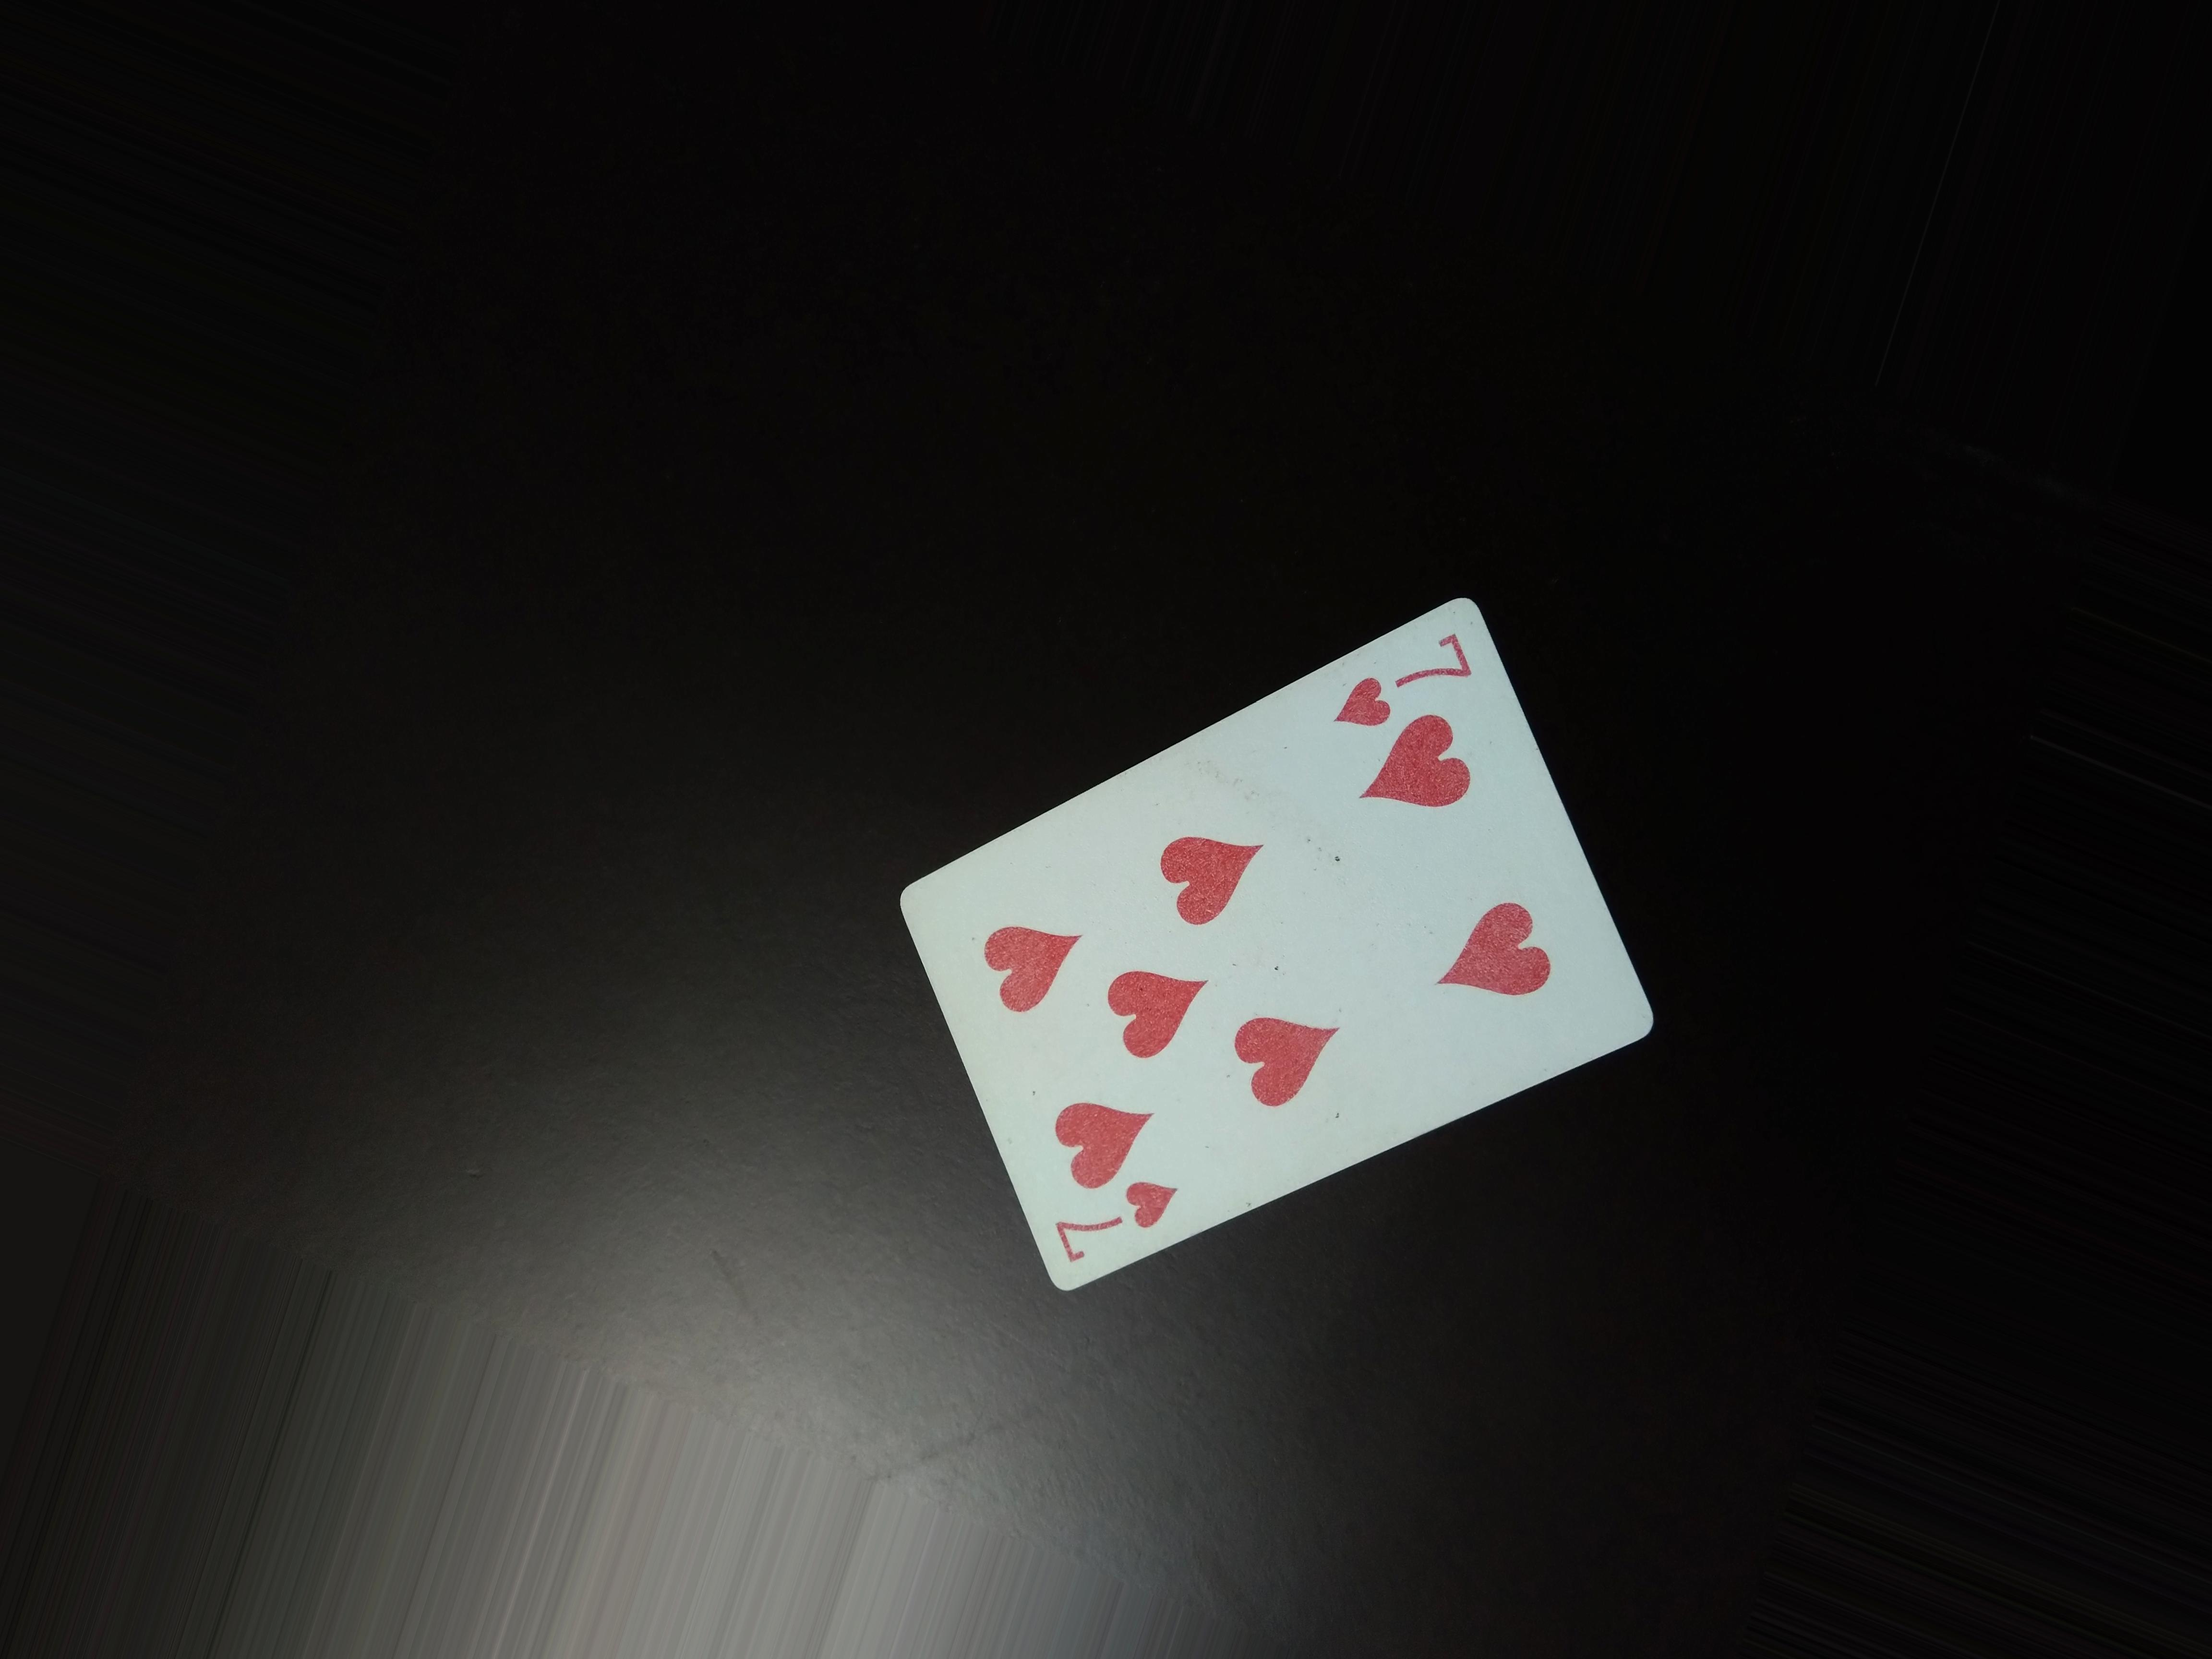7H: (1029, 1176, 1186, 1260)
